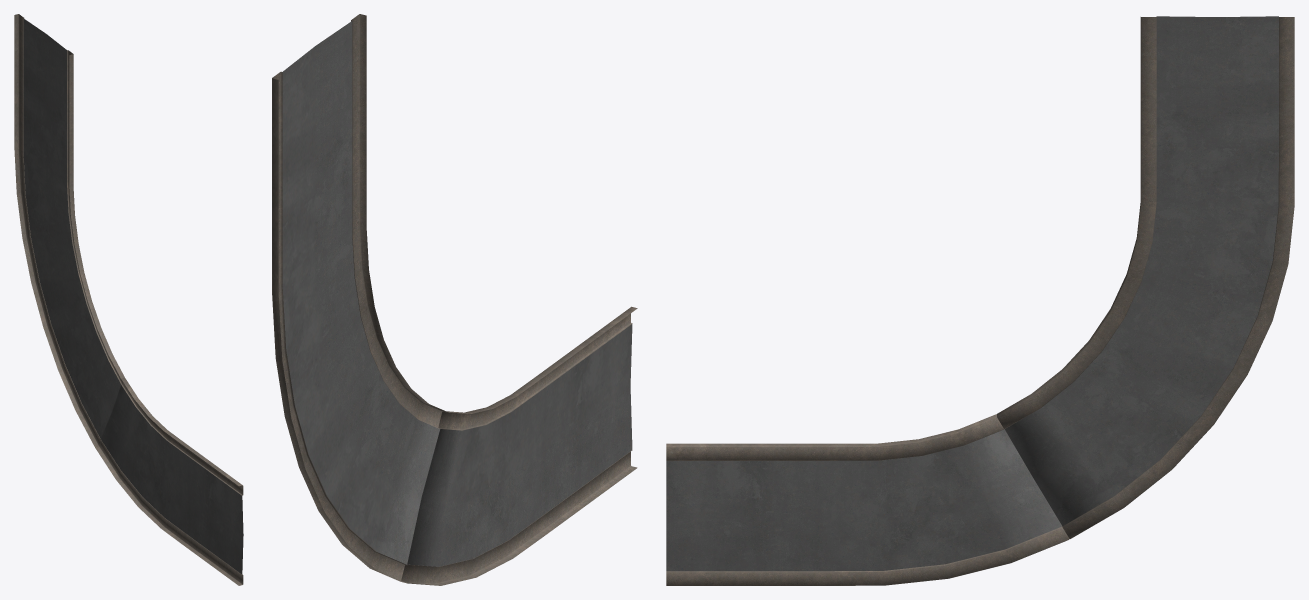
Rendered from cP_Pathway01_v02_Corner.dae.
3 views of the same model, side by side, from view 1: azimuth 30°, elevation 25°; view 2: azimuth 150°, elevation 25°; view 3: azimuth 270°, elevation 25° (orthographic). The views are drawn at different scales.
Parts seen in each view (by area): view 1: cP_Pathway01_v02_Corner.001; view 2: cP_Pathway01_v02_Corner.001; view 3: cP_Pathway01_v02_Corner.001.
Part boxes in pixels (x1,y1,x2,y2): cP_Pathway01_v02_Corner.001: [14, 14, 243, 585]; cP_Pathway01_v02_Corner.001: [272, 14, 637, 585]; cP_Pathway01_v02_Corner.001: [666, 16, 1294, 585].
Bounding box in the file's own units: 0.0939 × 7.98 × 7.97.
